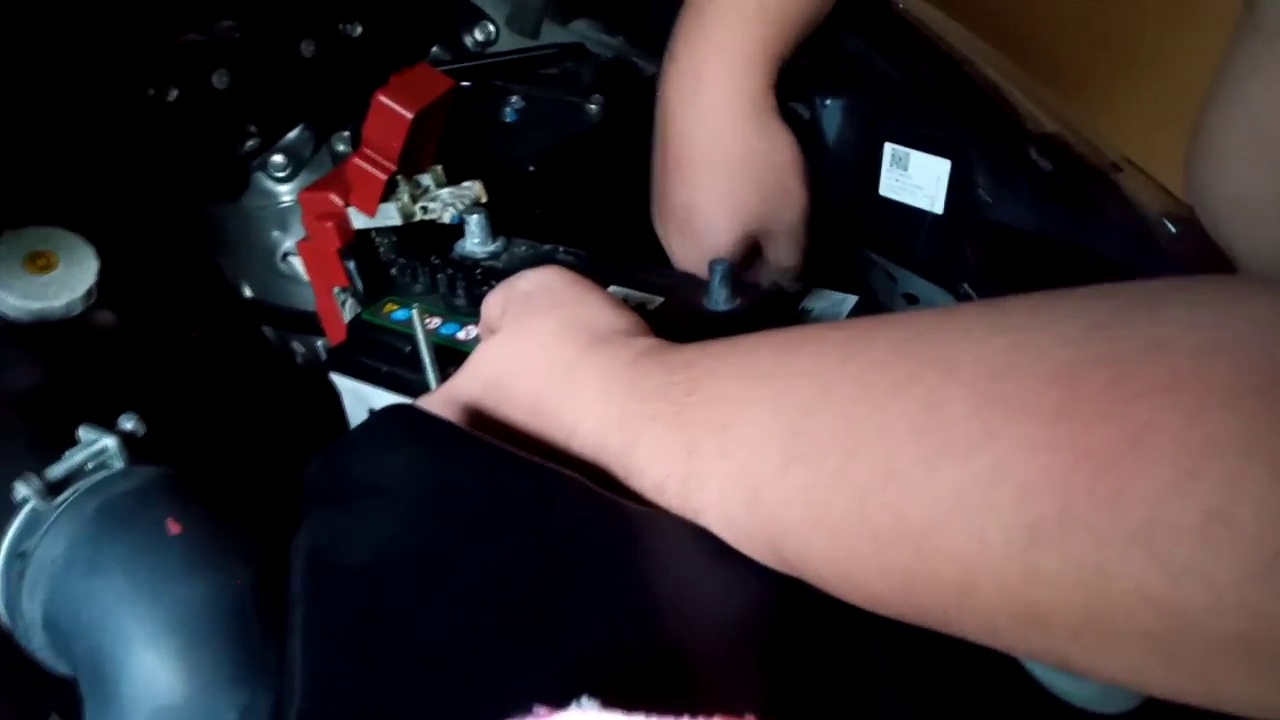battery: (321, 186, 814, 397)
neg_disconnected: (669, 229, 775, 327)
neg_touched: (644, 126, 835, 327)
pos_disconnected: (268, 98, 524, 316)
